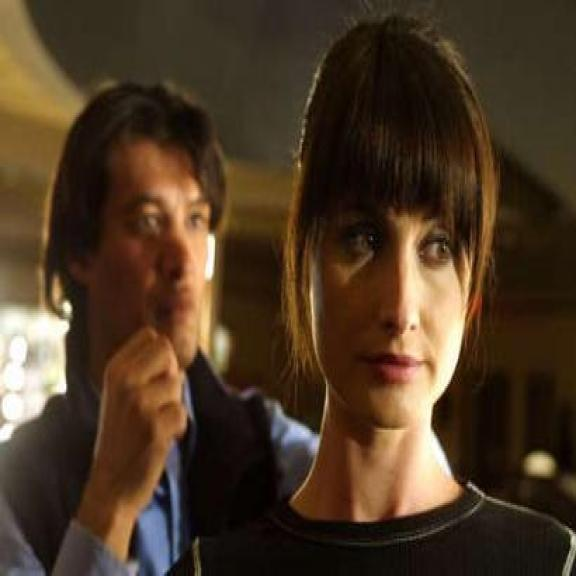face: (297, 170, 474, 432), (67, 116, 212, 386)
